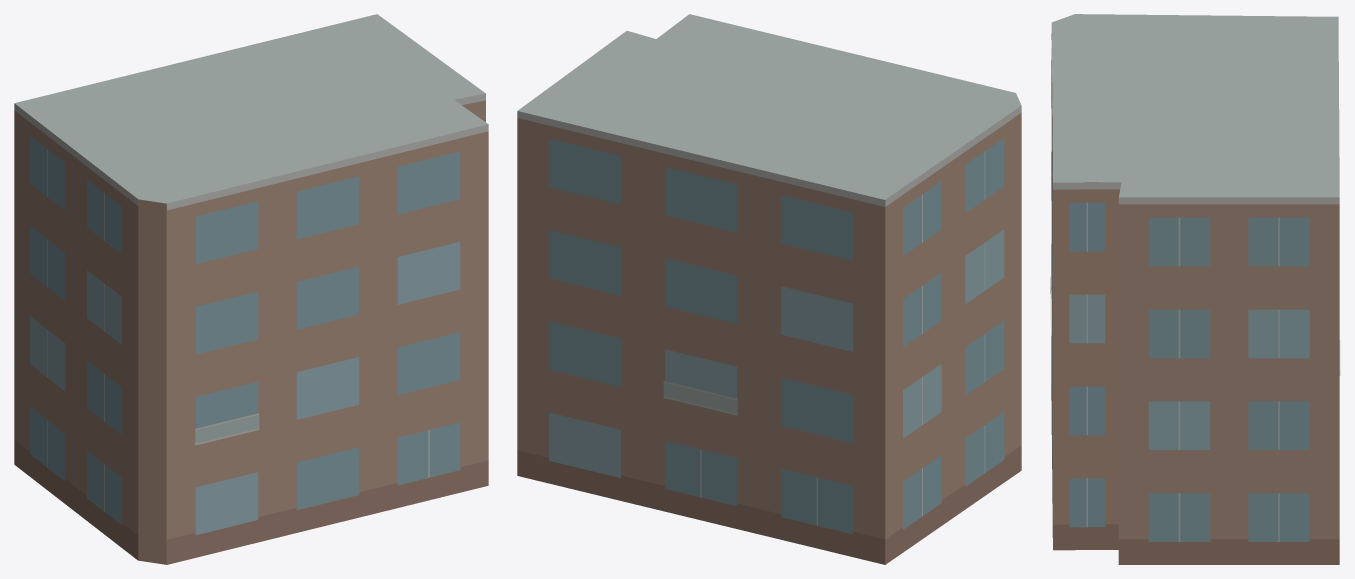
Rendered from survey-upis-32815557.glb.
3 renders of one model, left to right at view 1: azimuth 30°, elevation 25°; view 2: azimuth 150°, elevation 25°; view 3: azimuth 270°, elevation 25°, orthographic.
Visible parts, largest first — view 1: survey-upis-32815557.tmp; view 2: survey-upis-32815557.tmp; view 3: survey-upis-32815557.tmp.
Boxes of the visible parts, x1,y1,x2,y2 form: survey-upis-32815557.tmp: [14, 14, 488, 564]; survey-upis-32815557.tmp: [517, 14, 1021, 564]; survey-upis-32815557.tmp: [1050, 14, 1340, 564].
Size of the model in its own units: 13.7 by 12.8 by 9.16.
